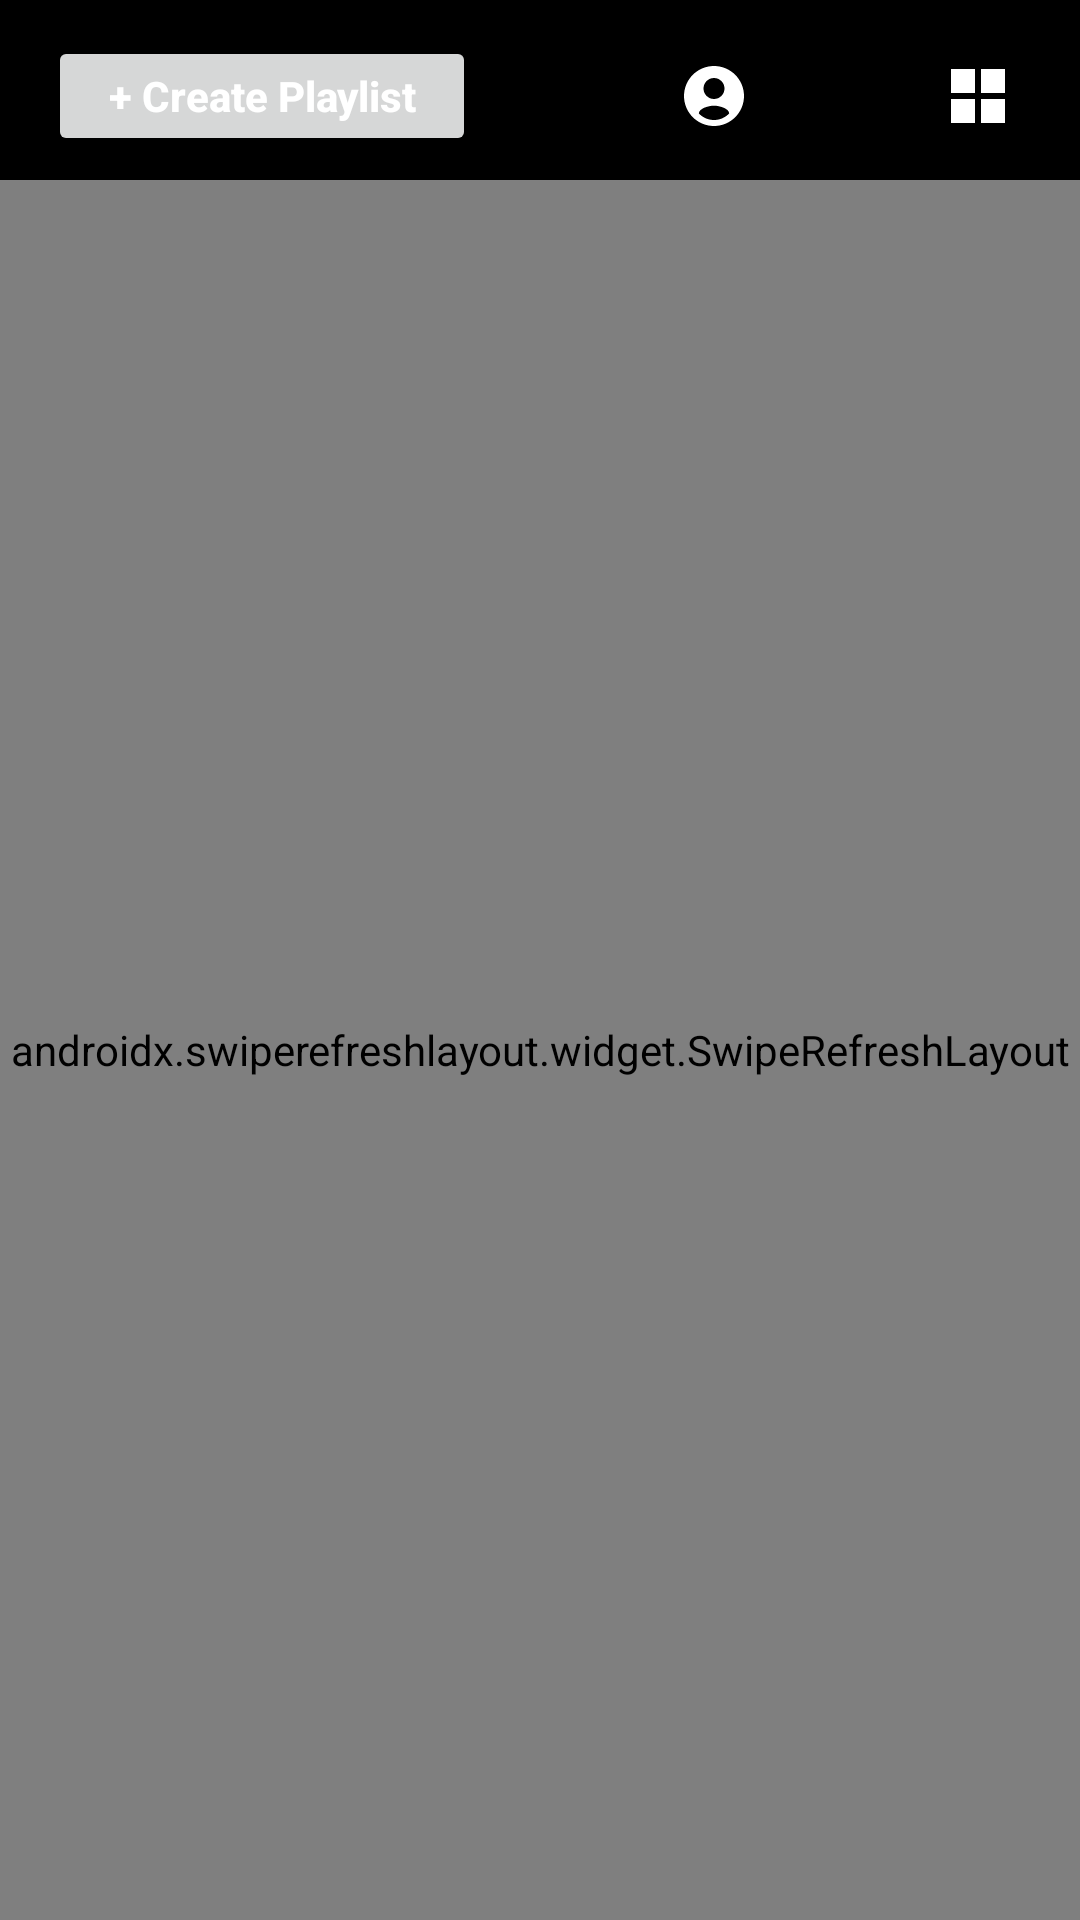

Point at icon controls on the screen. Image size 1080*1920, points as (x=x, y=y).
Profile & Settings: (x=714, y=96)
Toggle View Mode: (x=978, y=96)
